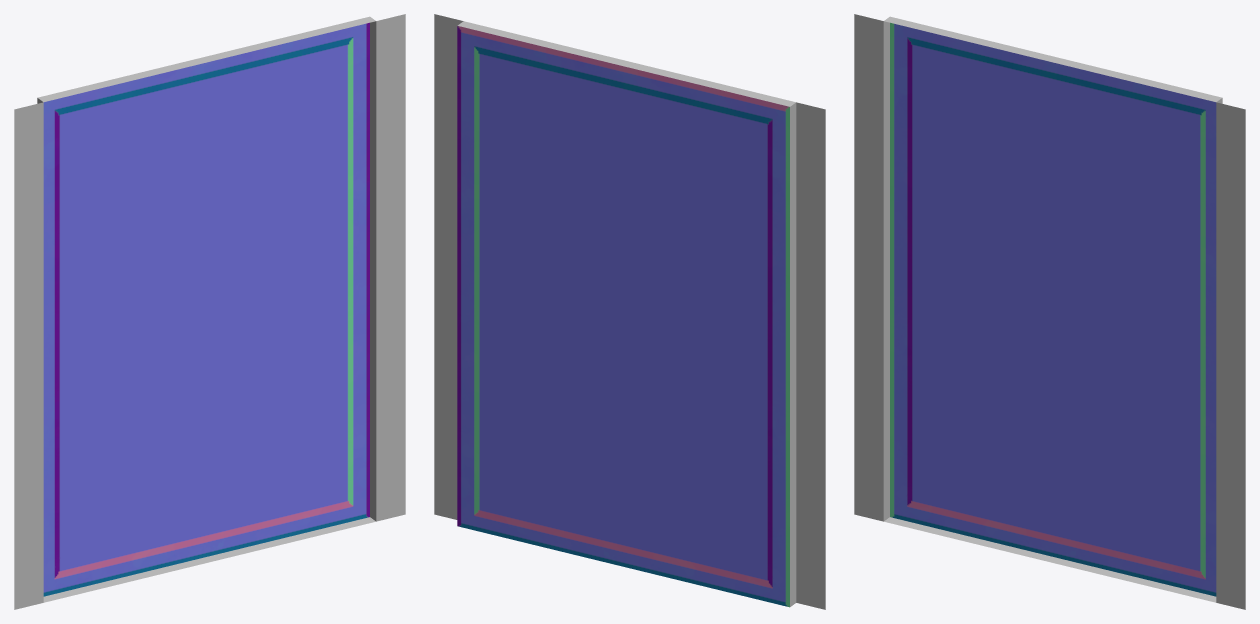
File: SM_ENV_ALLEY_MODULAR_BUILDING_2_SHOWCASE_01.fbx
3 views of the same model, side by side, from view 1: azimuth 30°, elevation 25°; view 2: azimuth 150°, elevation 25°; view 3: azimuth 330°, elevation 25° (orthographic).
Visible parts, largest first — view 1: SM_ENV_ALLEY_MODULAR_BUILDING_2_SHOWCASE_01; view 2: SM_ENV_ALLEY_MODULAR_BUILDING_2_SHOWCASE_01; view 3: SM_ENV_ALLEY_MODULAR_BUILDING_2_SHOWCASE_01.
Part boxes in pixels (x1=…): SM_ENV_ALLEY_MODULAR_BUILDING_2_SHOWCASE_01: x1=14, y1=14, x2=405, y2=609; SM_ENV_ALLEY_MODULAR_BUILDING_2_SHOWCASE_01: x1=434, y1=14, x2=825, y2=609; SM_ENV_ALLEY_MODULAR_BUILDING_2_SHOWCASE_01: x1=854, y1=14, x2=1245, y2=609.
Size of the model in its own units: 1.8 by 2.2 by 0.05.
